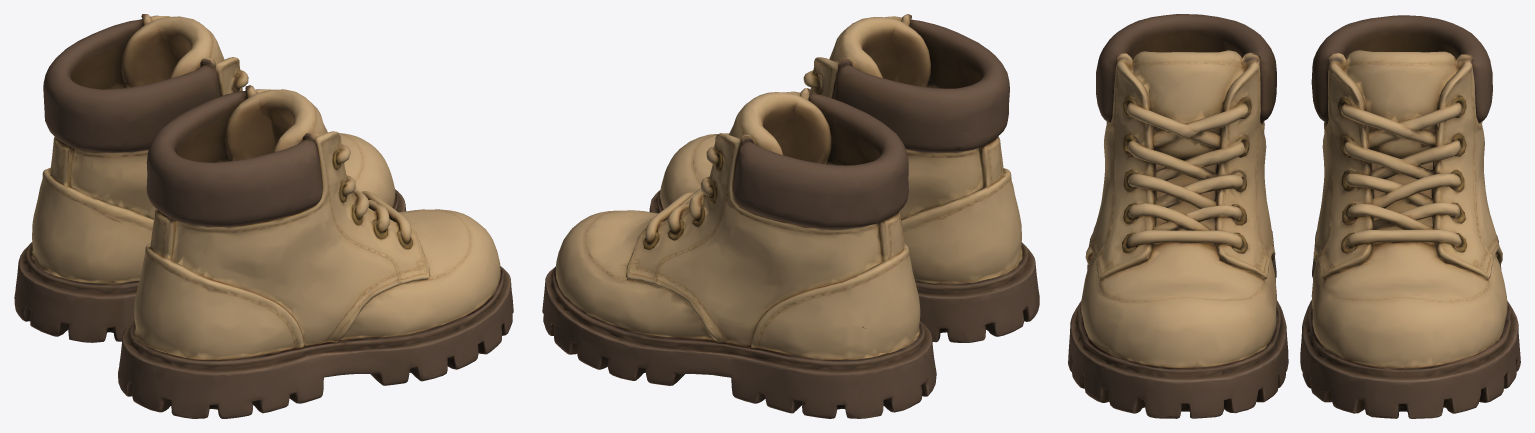
The model's file is boots_desert_tripo_raw.glb.
The picture shows the model from 3 angles, left to right: view 1: azimuth 30°, elevation 25°; view 2: azimuth 150°, elevation 25°; view 3: azimuth 270°, elevation 25°; orthographic projection. The views are drawn at different scales.
Visible parts, largest first — view 1: tripo_node_4c399ebc-c936-4415-aa56-78c77c2105ac; view 2: tripo_node_4c399ebc-c936-4415-aa56-78c77c2105ac; view 3: tripo_node_4c399ebc-c936-4415-aa56-78c77c2105ac.
Boxes of the visible parts, x1,y1,x2,y2 form: tripo_node_4c399ebc-c936-4415-aa56-78c77c2105ac: [14, 14, 513, 418]; tripo_node_4c399ebc-c936-4415-aa56-78c77c2105ac: [542, 14, 1039, 418]; tripo_node_4c399ebc-c936-4415-aa56-78c77c2105ac: [1068, 14, 1520, 418].
Bounding box in the file's own units: 0.9973 × 0.6721 × 1.
Materials: 1 (1 with a texture image).
